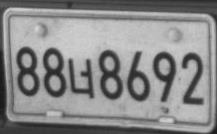2: (180, 51, 205, 105)
6: (126, 50, 151, 102)
8: (97, 48, 124, 100), (14, 45, 40, 97), (41, 46, 67, 98)
9: (151, 50, 177, 102)
너: (67, 58, 94, 99)
